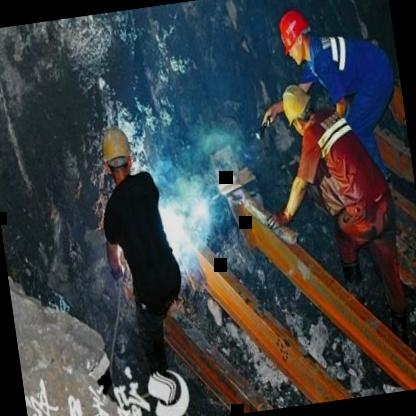helmet: (273, 2, 319, 70), (96, 120, 138, 190), (277, 84, 315, 132)
